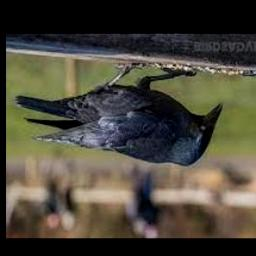Crow: (14, 63, 223, 167)
